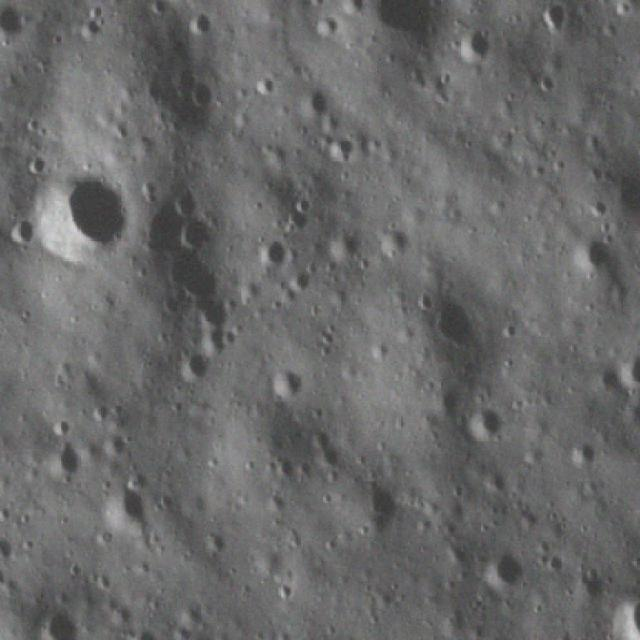crater: (29, 164, 132, 273), (418, 276, 497, 364), (368, 0, 445, 55), (99, 480, 153, 538), (452, 22, 503, 67), (574, 231, 620, 280), (480, 552, 531, 594), (44, 431, 88, 478), (182, 298, 242, 332), (460, 400, 508, 442), (35, 602, 88, 638), (265, 356, 310, 396), (292, 84, 336, 124), (363, 477, 402, 521), (185, 68, 220, 117), (538, 2, 582, 36), (182, 7, 221, 44), (174, 219, 212, 256), (257, 234, 291, 275), (167, 180, 202, 218), (306, 14, 345, 48), (326, 132, 360, 170), (178, 346, 212, 383), (564, 437, 601, 469), (74, 16, 108, 44), (9, 211, 33, 247), (22, 151, 55, 174), (544, 549, 568, 580), (254, 71, 280, 98), (339, 0, 367, 20)
